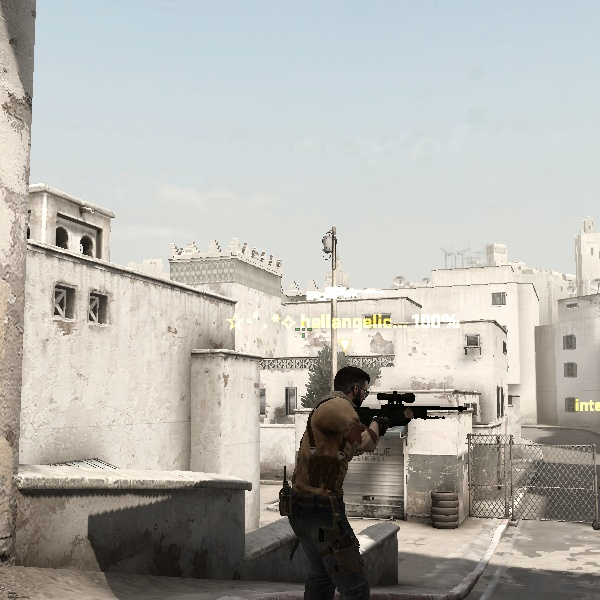t_body: (258, 357, 429, 598)
t_head: (326, 357, 382, 410)
